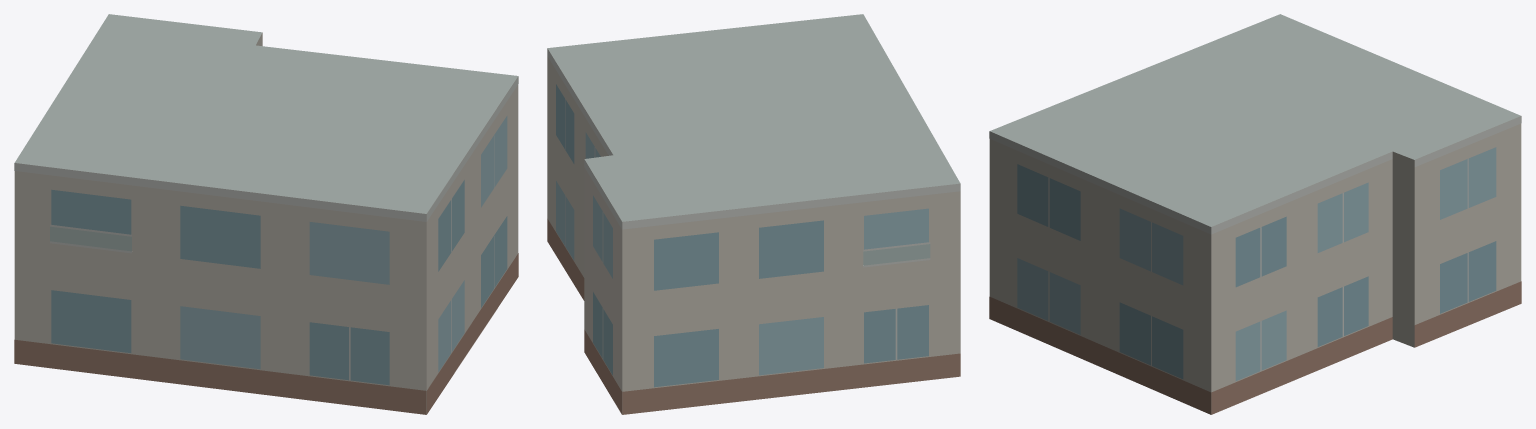
Rendered from survey-upis-32660040.glb.
3 views of the same model, side by side, from view 1: azimuth 30°, elevation 25°; view 2: azimuth 150°, elevation 25°; view 3: azimuth 270°, elevation 25° (orthographic). The views are drawn at different scales.
Parts seen in each view (by area): view 1: survey-upis-32660040.tmp; view 2: survey-upis-32660040.tmp; view 3: survey-upis-32660040.tmp.
Boxes of the visible parts, box(x1,y1,x2,y2) form: survey-upis-32660040.tmp: box(14, 14, 518, 414); survey-upis-32660040.tmp: box(547, 14, 960, 414); survey-upis-32660040.tmp: box(989, 14, 1521, 414).
Size of the model in its own units: 14.85 by 6.1 by 15.66.
